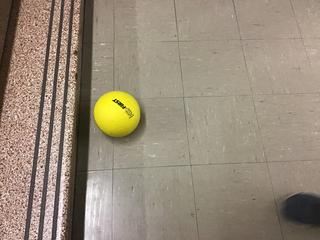power_cell: (90, 87, 144, 143)
